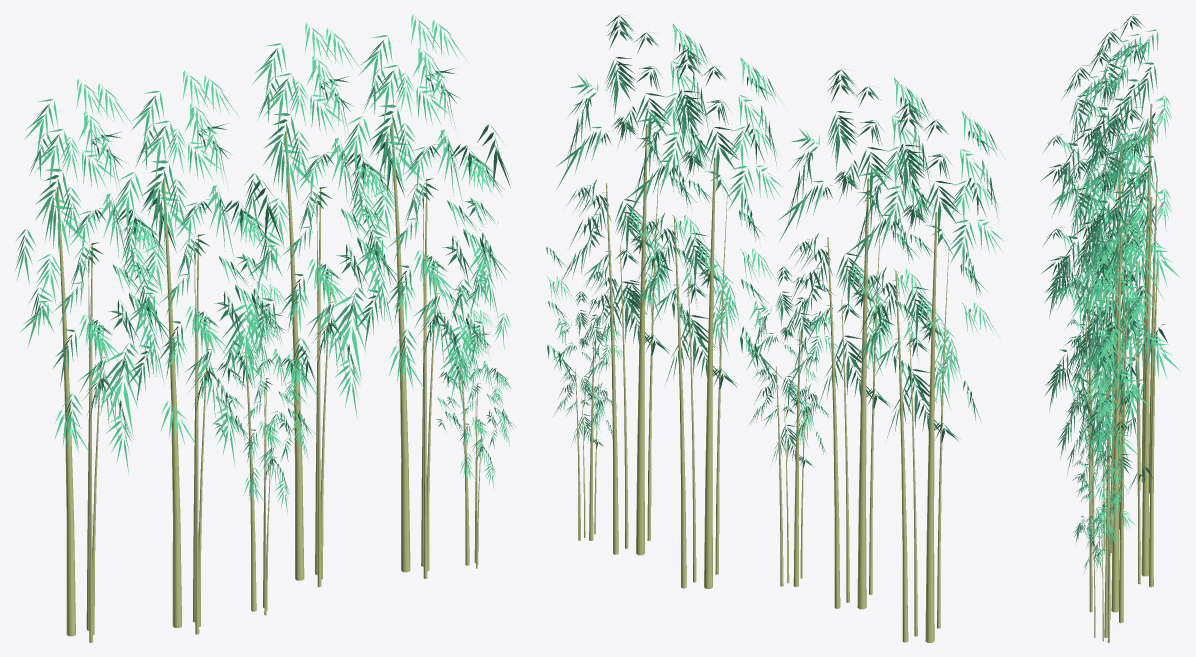
The model's file is Babmoo05.fbx.
3 views of the same model, side by side, from view 1: azimuth 30°, elevation 25°; view 2: azimuth 150°, elevation 25°; view 3: azimuth 270°, elevation 25° (orthographic). The views are drawn at different scales.
Visible parts, largest first — view 1: Cone27, Cone23, Cone35, Cone31, Cone28, Cone24, Cone32, Cone29, Cone25, Cone34, Cone41, Cone33 (+7 smaller); view 2: Cone23, Cone31, Cone27, Cone35, Cone29, Cone25, Cone33, Cone37, Cone32, Cone24, Cone34, Cone41 (+5 smaller); view 3: Cone31, Cone35, Cone33, Cone37, Cone23, Cone25, Cone34, Cone30, Rectangle4150, Rectangle4112, Rectangle4088, Cone45 (+59 smaller).
Part boxes in pixels (box(x1,y1,x2,y2)): Cone27: box(163, 178, 181, 628); Cone23: box(56, 187, 75, 636); Cone35: box(391, 123, 410, 572); Cone31: box(285, 131, 304, 580); Cone28: box(194, 246, 199, 634); Cone24: box(88, 254, 92, 642); Cone32: box(316, 199, 321, 587); Cone29: box(192, 234, 198, 622); Cone25: box(86, 242, 92, 630); Cone34: box(422, 191, 427, 578); Cone41: box(245, 346, 256, 611); Cone33: box(315, 187, 321, 574); Cone23: box(925, 212, 937, 642); Cone31: box(704, 157, 715, 588); Cone27: box(857, 178, 869, 609); Cone35: box(636, 124, 647, 555); Cone29: box(827, 237, 840, 608); Cone25: box(895, 271, 908, 642); Cone33: box(674, 216, 686, 588); Cone37: box(606, 183, 618, 554); Cone32: box(715, 194, 727, 574); Cone24: box(937, 248, 948, 628); Cone34: box(647, 161, 659, 540); Cone41: box(793, 331, 800, 586); Cone31: box(1141, 196, 1152, 576); Cone35: box(1111, 232, 1121, 612); Cone33: box(1149, 268, 1157, 587); Cone37: box(1119, 304, 1127, 623); Cone23: box(1141, 103, 1152, 482); Cone25: box(1149, 175, 1157, 493); Cone34: box(1084, 282, 1092, 612); Cone30: box(1135, 334, 1140, 584); Rectangle4150: box(1078, 269, 1107, 338); Rectangle4112: box(1082, 354, 1116, 419); Rectangle4088: box(1108, 233, 1136, 302); Cone45: box(1104, 462, 1109, 637).
Size of the model in its own units: 8834 by 9808 by 2735.
